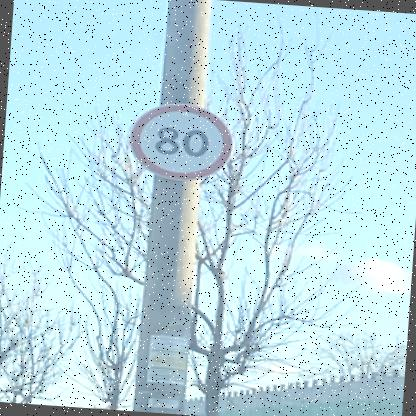speedlimit: (124, 99, 232, 183)
